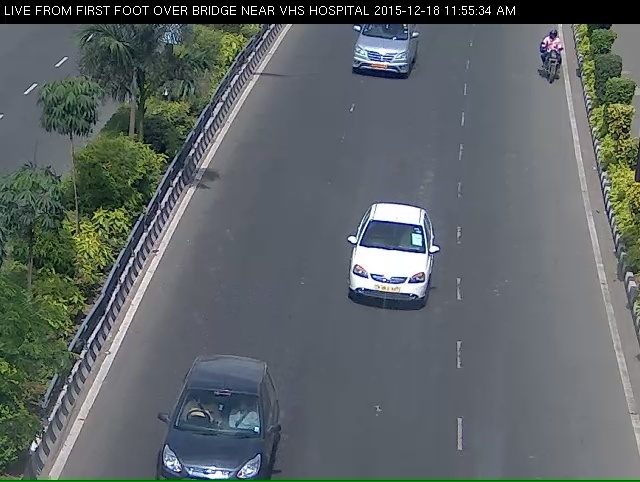Car: (130, 376, 284, 482), (332, 209, 446, 351), (338, 19, 434, 97)
Person: (531, 32, 573, 91)
